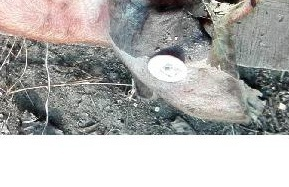text: (136, 38, 199, 93)
